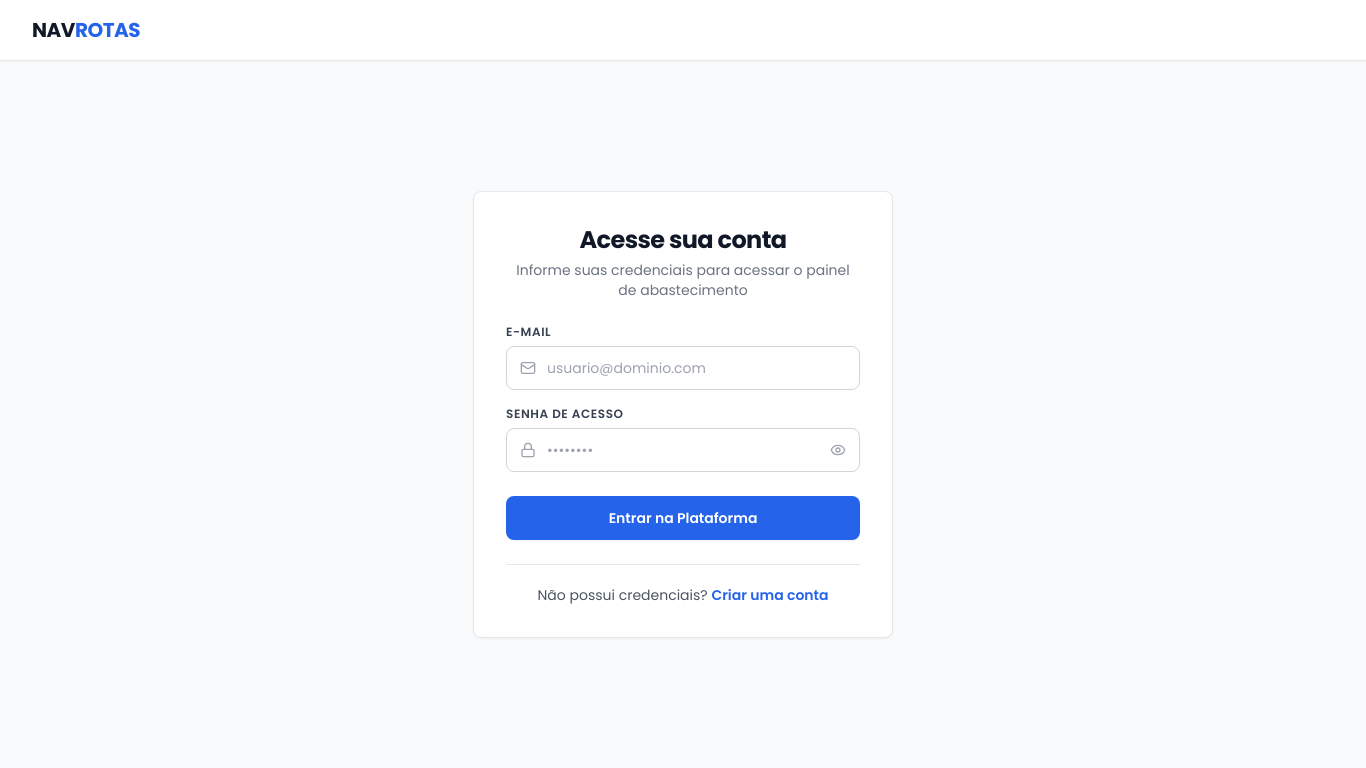
Scenario: LoginPage › displays error message when login fails with invalid credentials
This screenshot has width=1366, height=768.
Type "wrong@fuelsync.com" into the field with placeholder "usuario@dominio.com" at (683, 368), box x1=506 y1=346 x2=860 y2=390
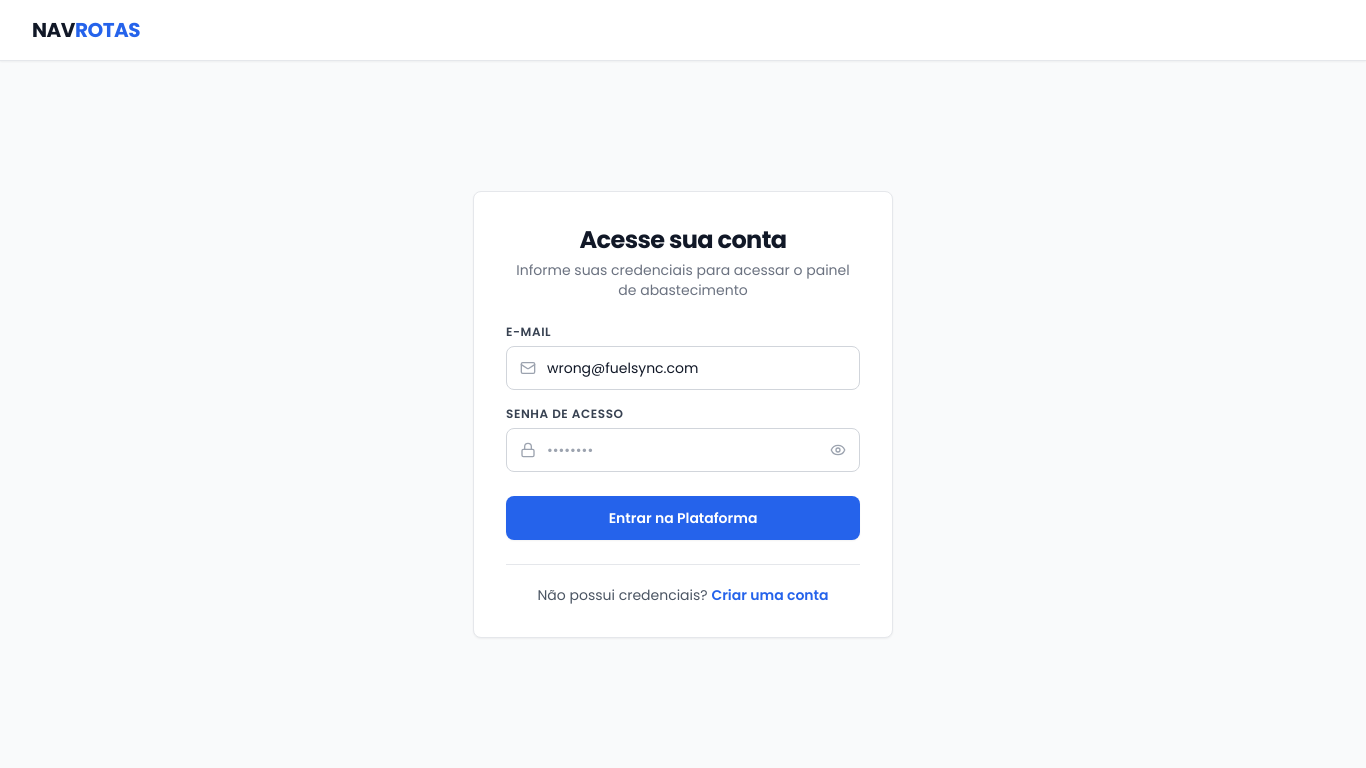
Type "wrongpass" into the password field with placeholder "••••••••" at (683, 450), box x1=506 y1=428 x2=860 y2=472
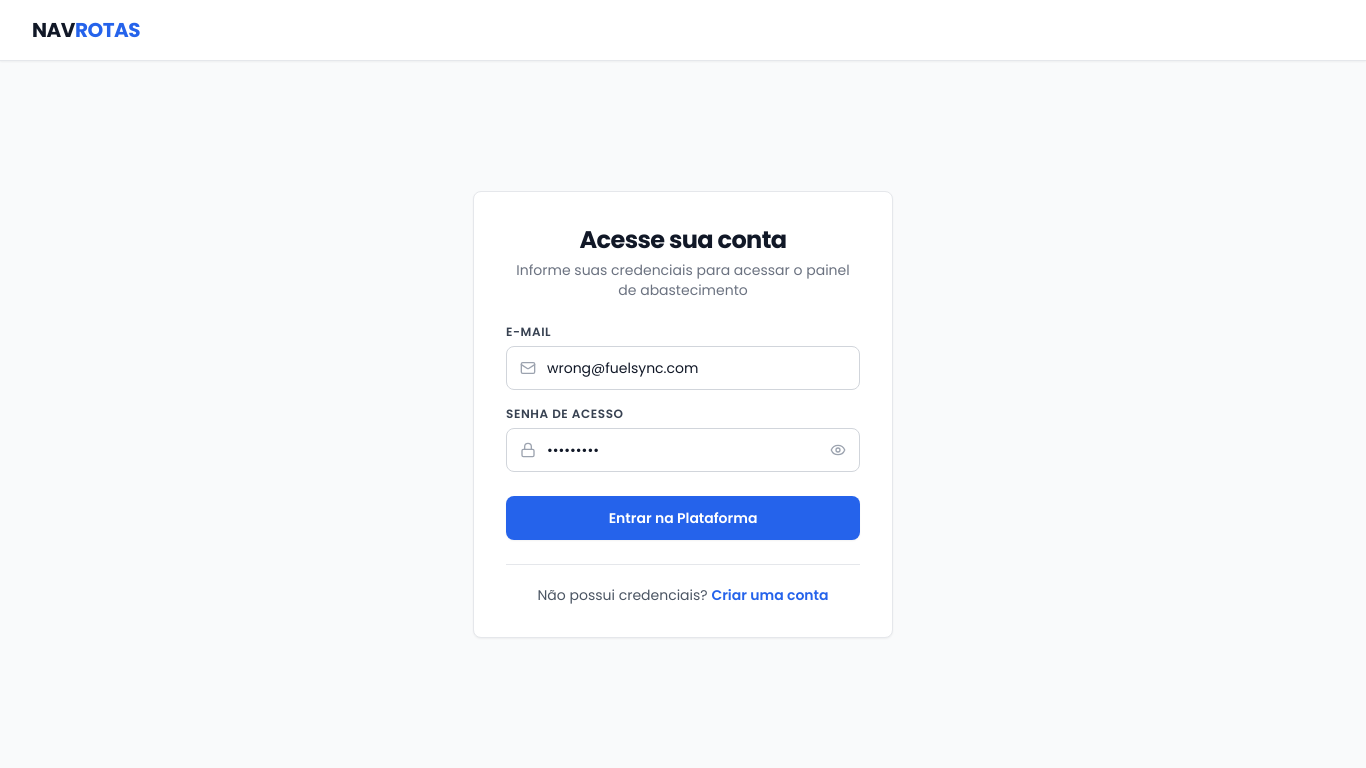
Click the button "Entrar na Plataforma" at (683, 518), box x1=506 y1=496 x2=860 y2=540
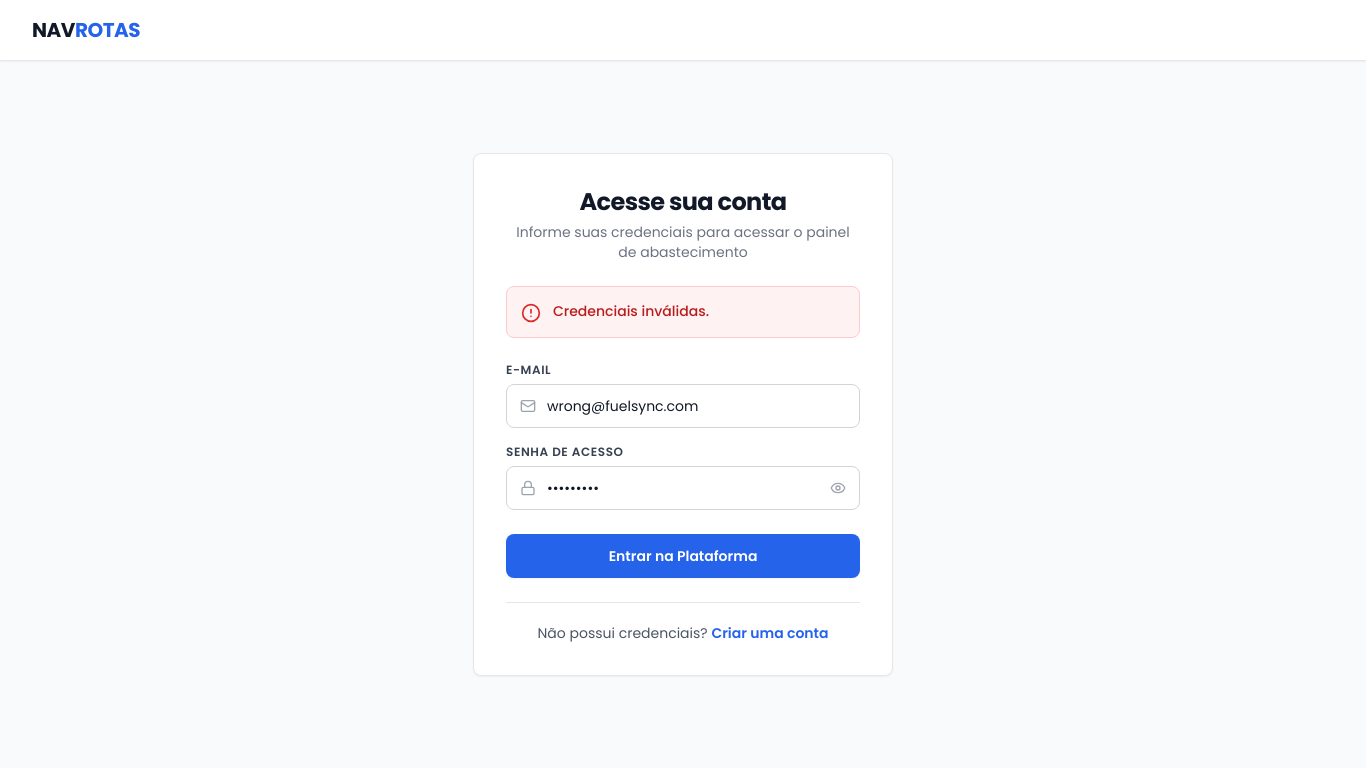
Result: the message with test id "error-alert" reads "Credenciais inválidas." at x1=553 y1=301 x2=709 y2=321
